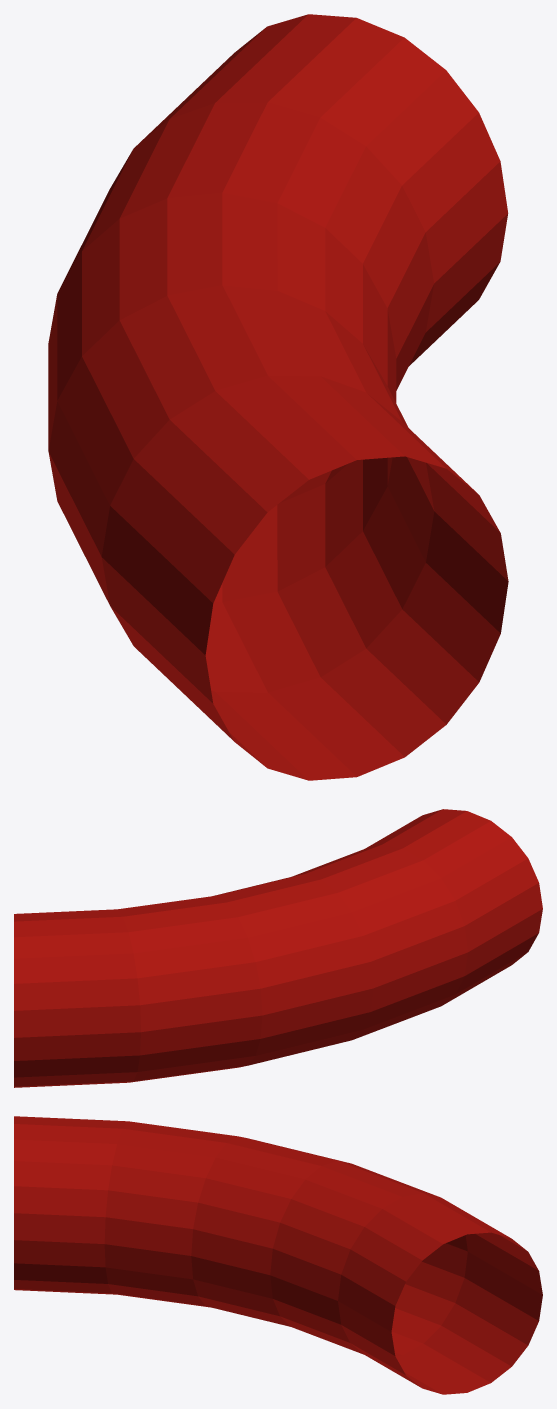
File: Vessel_turn_right_100_outside.fbx
3 renders of one model, top to bottom at view 1: azimuth 30°, elevation 25°; view 2: azimuth 150°, elevation 25°; view 3: azimuth 270°, elevation 25°, orthographic. The views are drawn at different scales.
Parts seen in each view (by area): view 1: Vessel_turn_right_100; view 2: Vessel_turn_right_100; view 3: Vessel_turn_right_100.
Boxes of the visible parts, x1=… form: Vessel_turn_right_100: x1=48, y1=14, x2=508, y2=780; Vessel_turn_right_100: x1=14, y1=809, x2=542, y2=1087; Vessel_turn_right_100: x1=14, y1=1116, x2=542, y2=1394.
Size of the model in its own units: 14.33 by 6.39 by 19.31.
